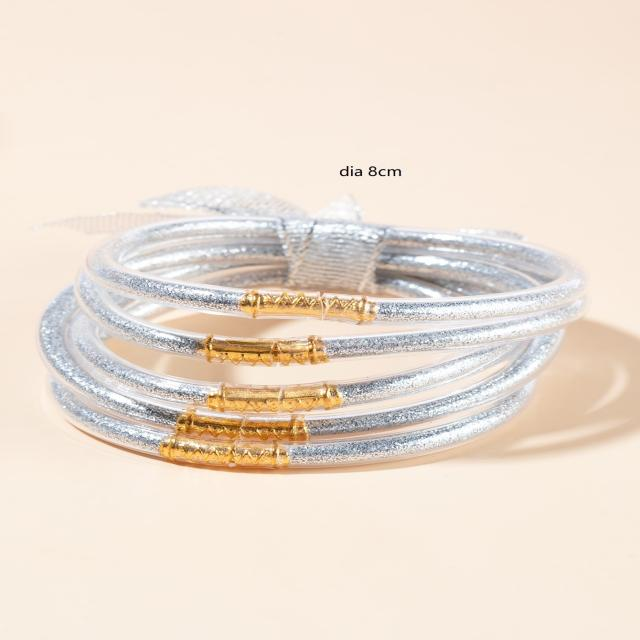bracelet: (14, 129, 640, 522)
